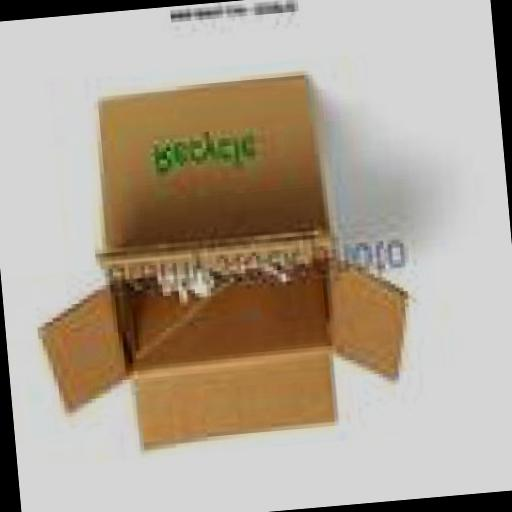cardboard: (14, 72, 416, 467)
metal: (150, 280, 220, 310), (229, 270, 287, 290)
